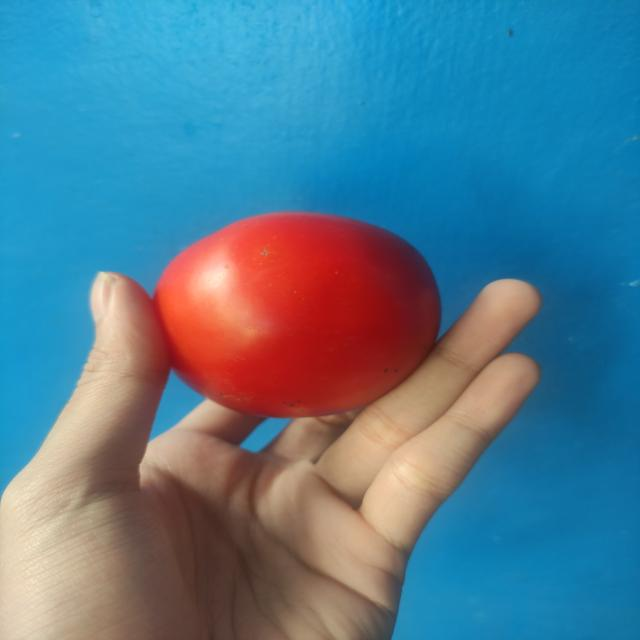ripe tomato: (151, 202, 444, 418)
